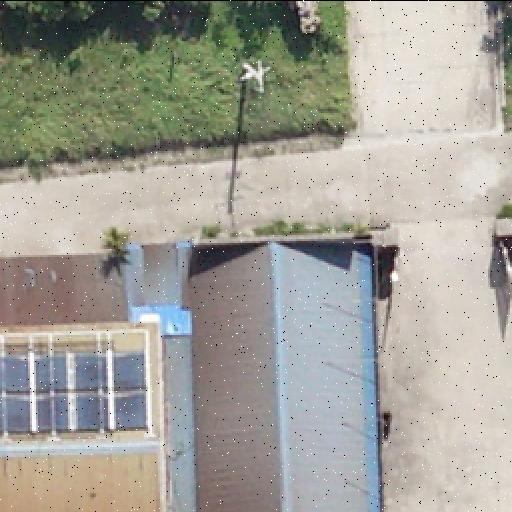solar-panel: (0, 327, 157, 444)
